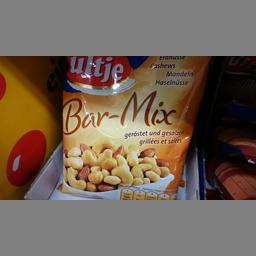nuts: (57, 55, 210, 199)
